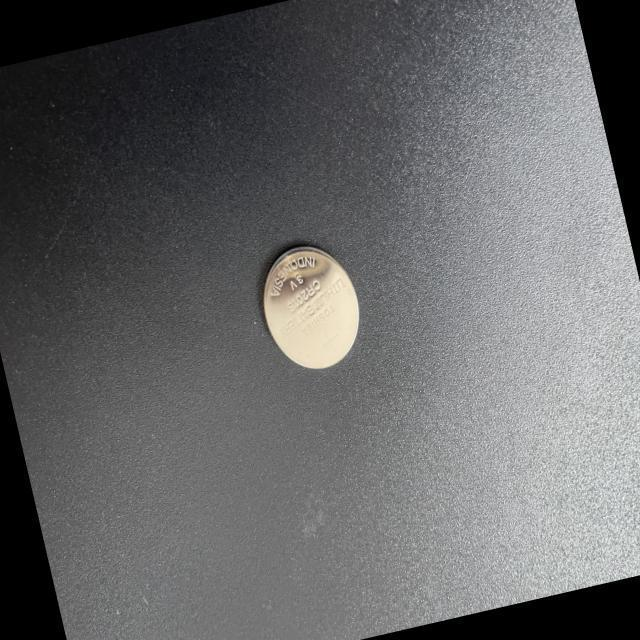COIN: (245, 232, 374, 388)
